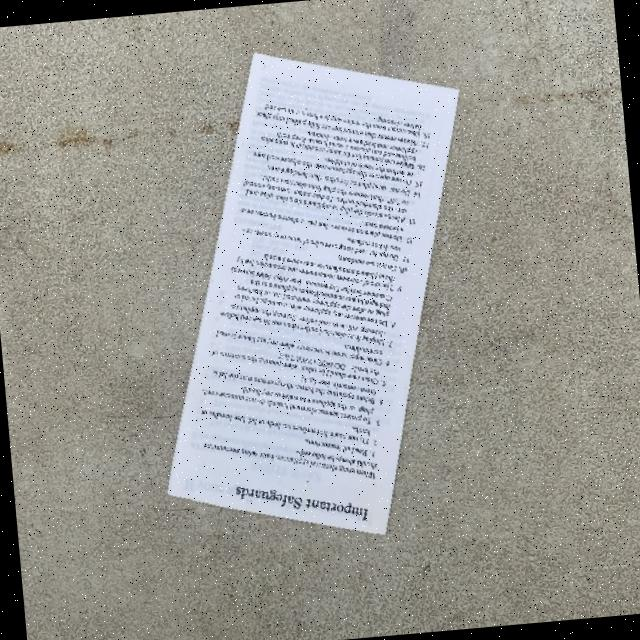paper: (128, 34, 497, 552)
